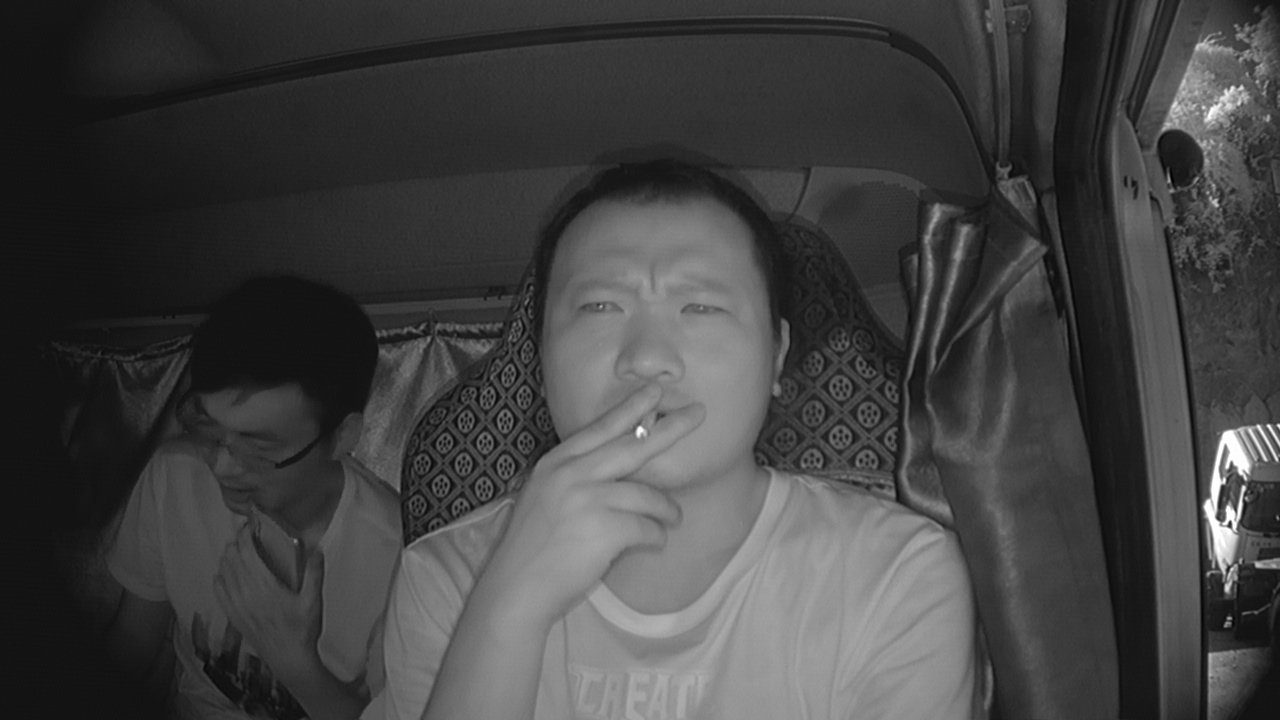hand: (559, 388, 710, 572)
